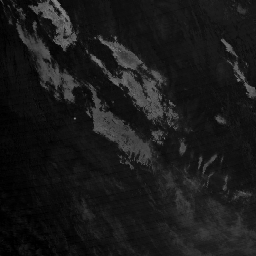Target: (72, 117, 78, 121)
